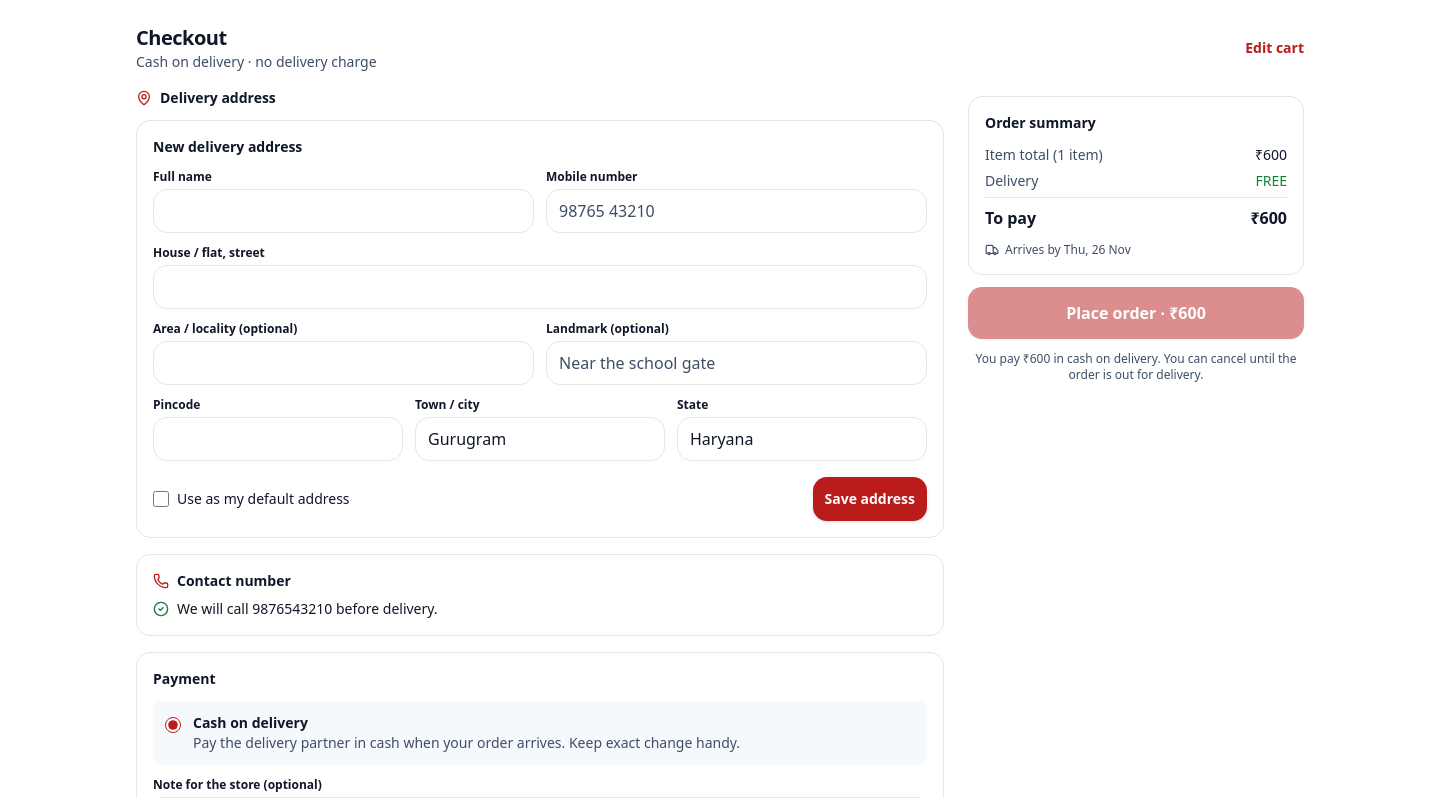
Test: CheckoutPage wallet and addresses › shows a server failure and keeps Save Address available for retry
The width and height of the screenshot is (1440, 798).
In the field labelled "Full name": (344, 211) [153,189,534,233], type "Jashan Kumar"
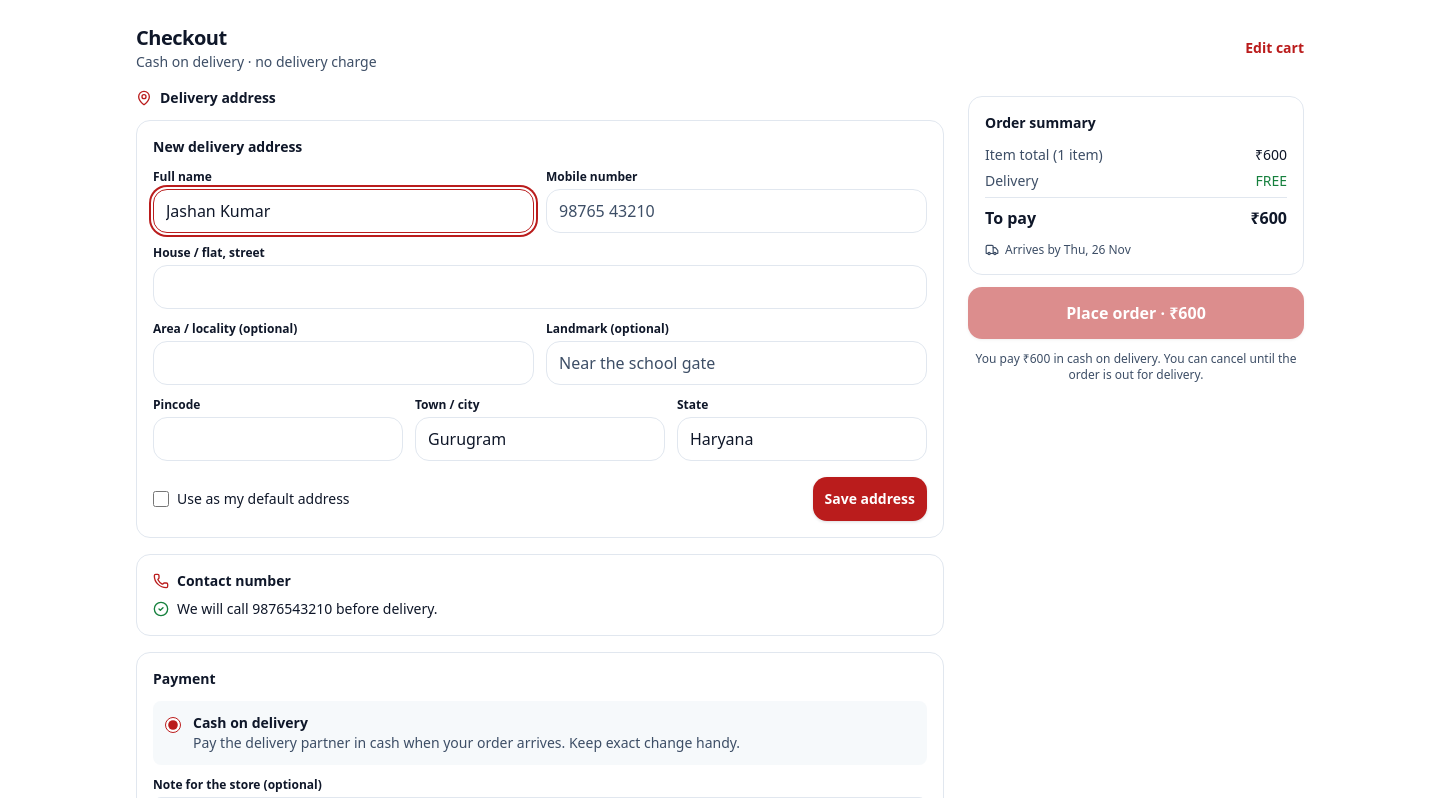
In the field labelled "Mobile number": (736, 211) [546,189,927,233], type "9876543210"
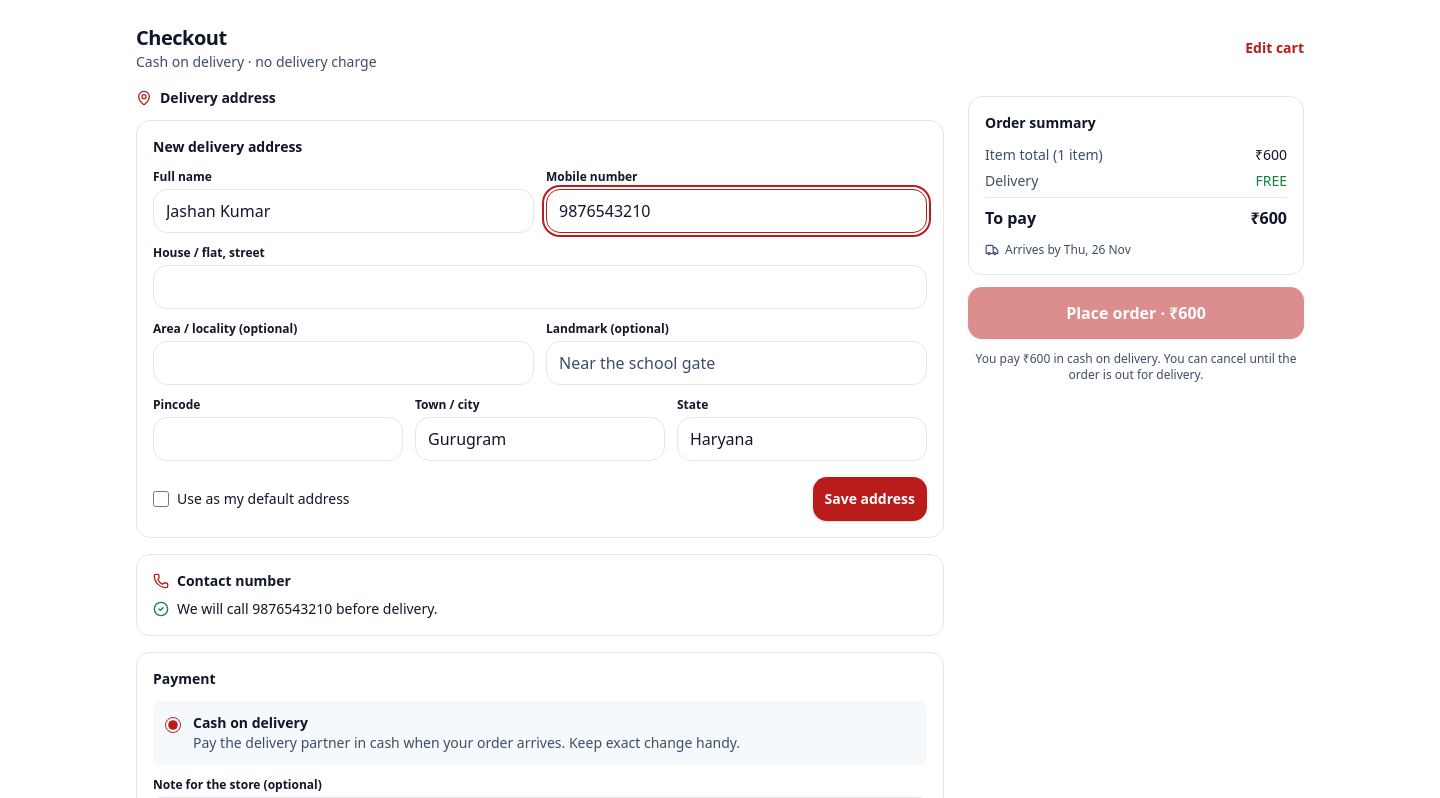
In the field labelled "House / flat, street": (540, 287) [153,265,927,309], type "12 Gali 3 Main Road"
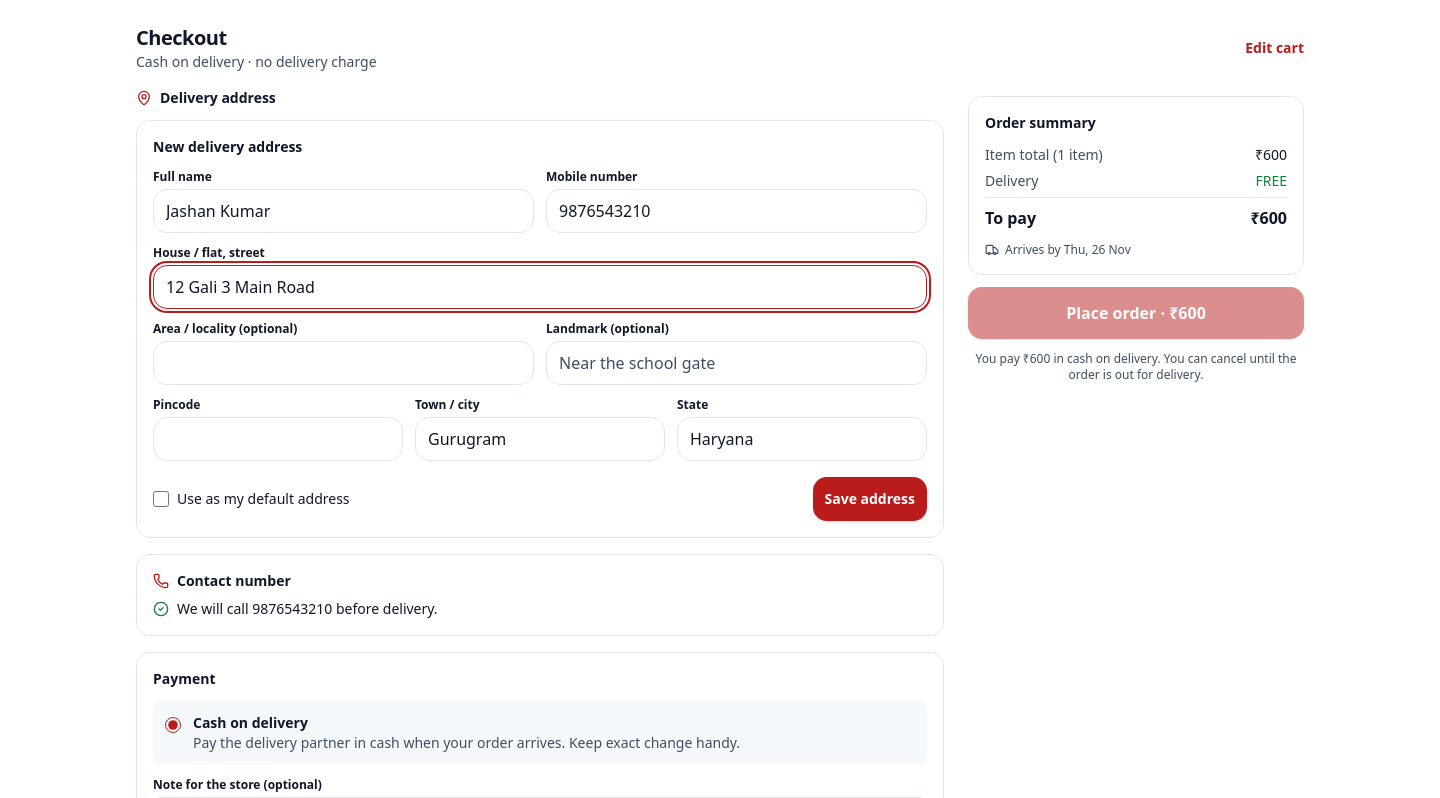
In the field labelled "Pincode": (278, 439) [153,417,403,461], type "122001"
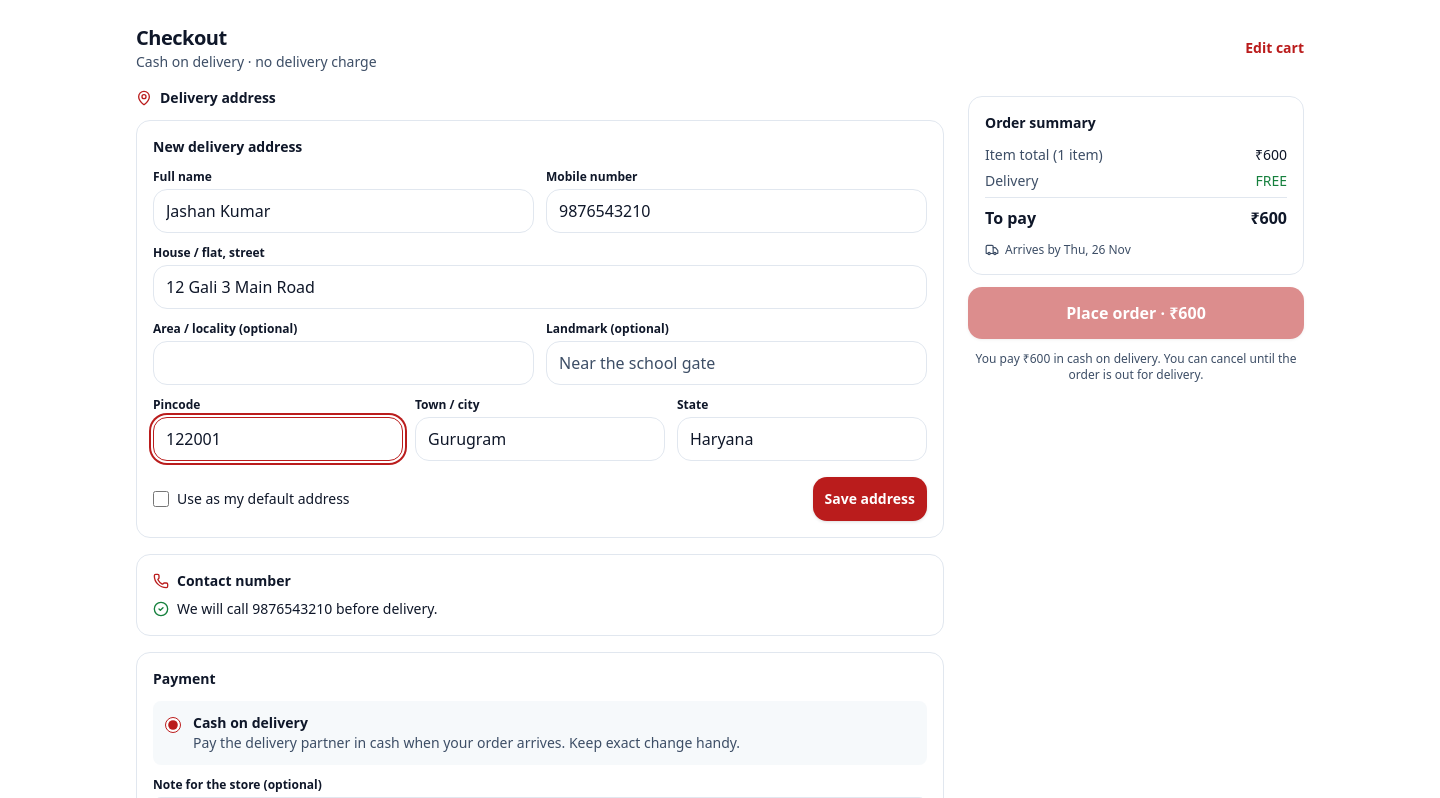
Click the button "Save address": (870, 499) [812,477,927,521]
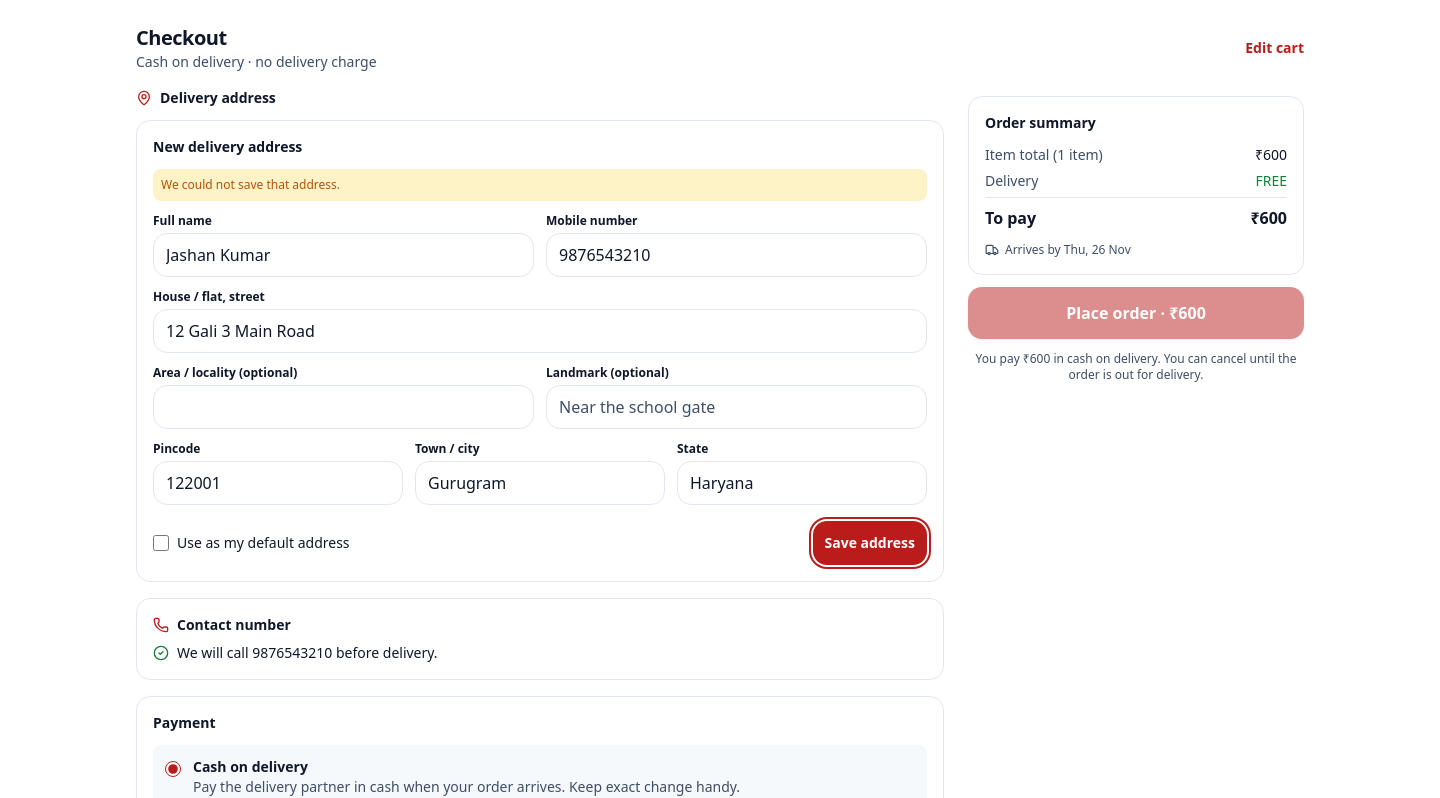
Expected: the button "Save address" is enabled, [812,521,927,565]
Expected: the message reads "We could not save that address.", [161,176,340,193]
